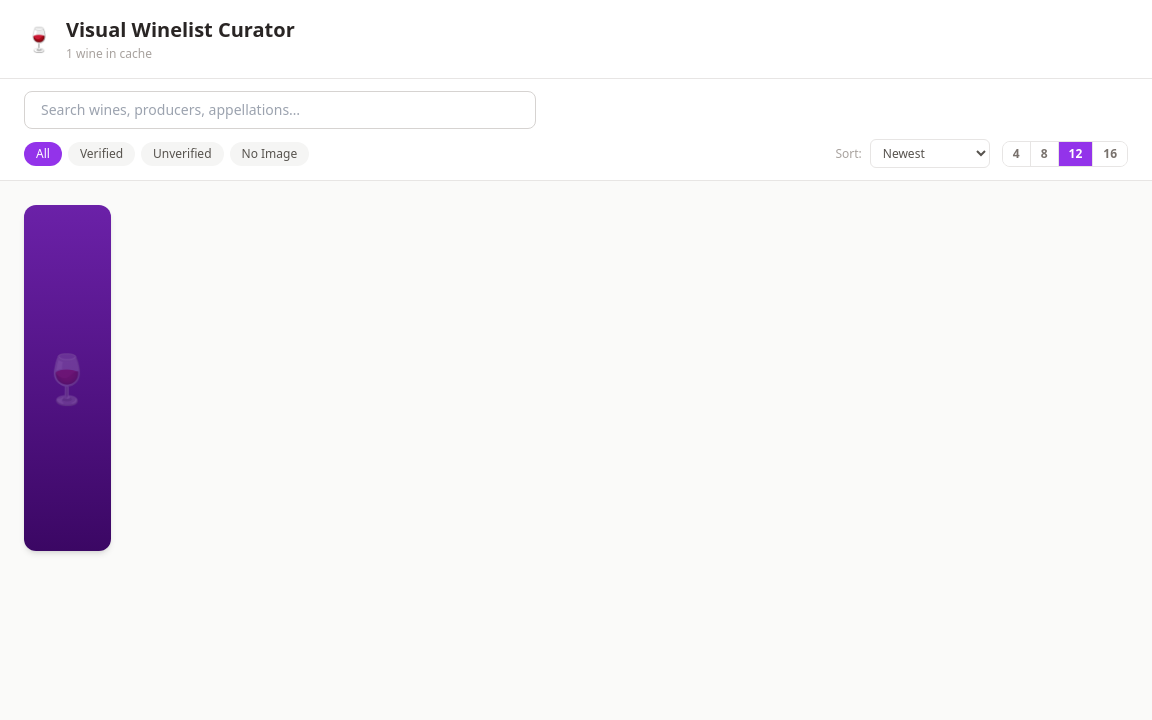
it: handleDelete opens the confirm modal
Click the button named "Test Wine" at (67, 378), box [24,205,110,551]
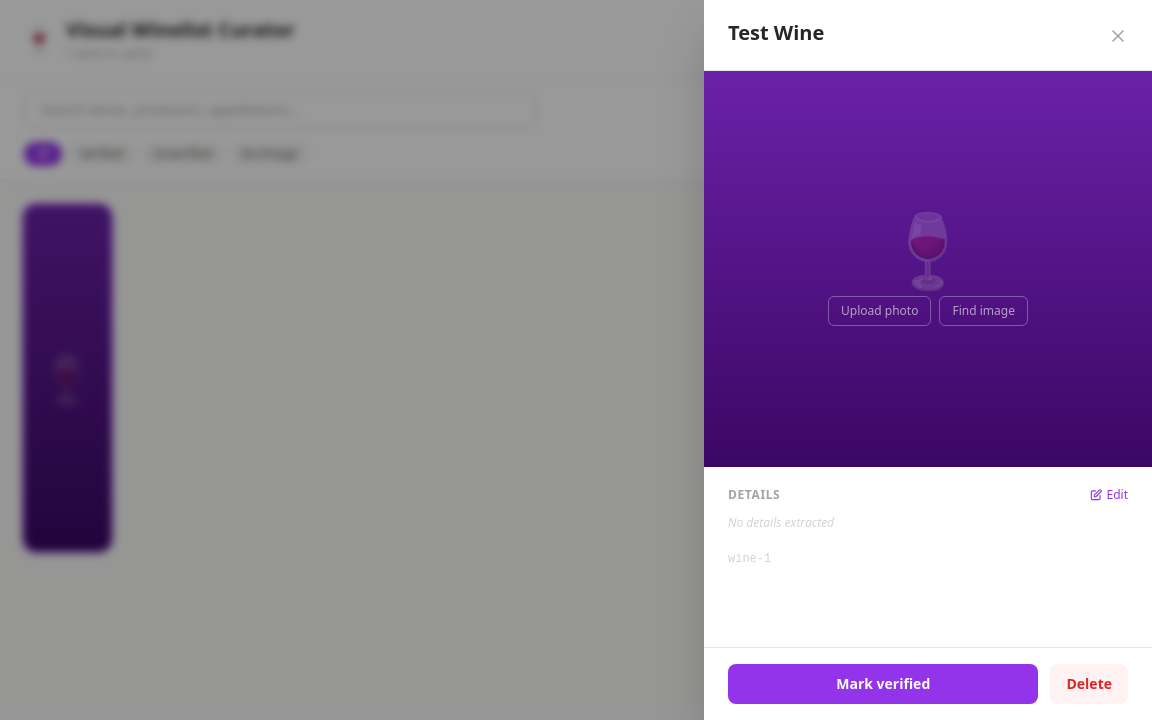
Click the button "Delete" at (1089, 684), box [1050,664,1128,704]
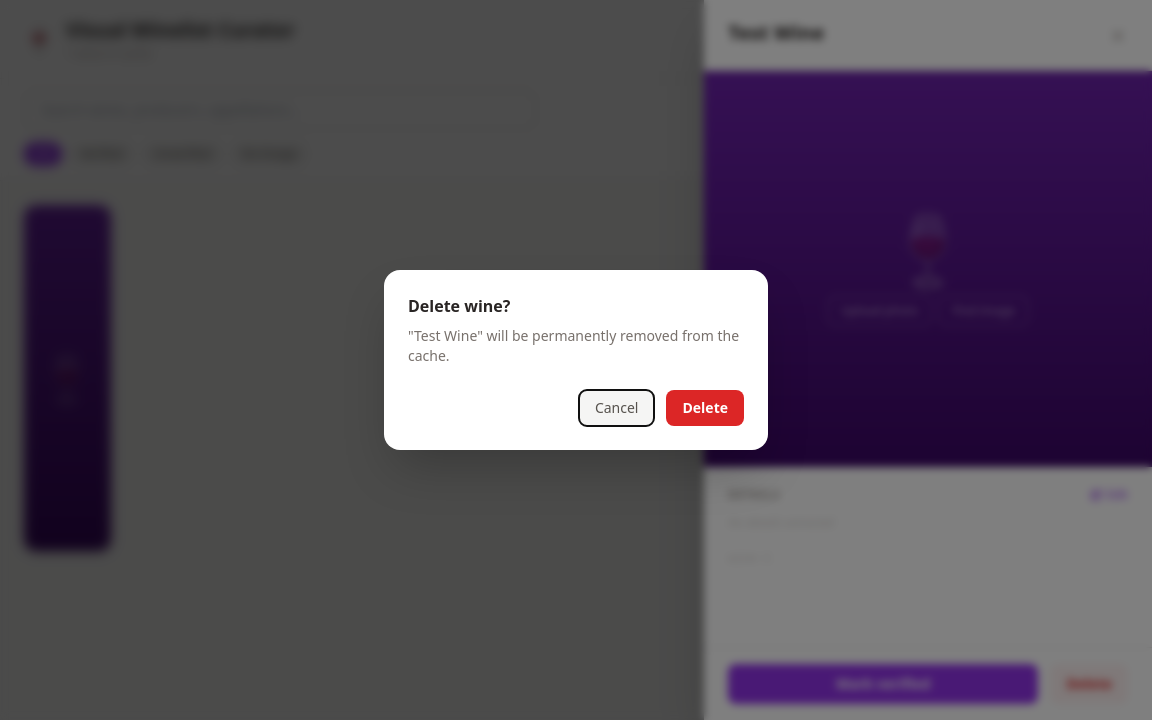
Check: the dialog "Delete wine" is shown, box [384,270,768,450]
